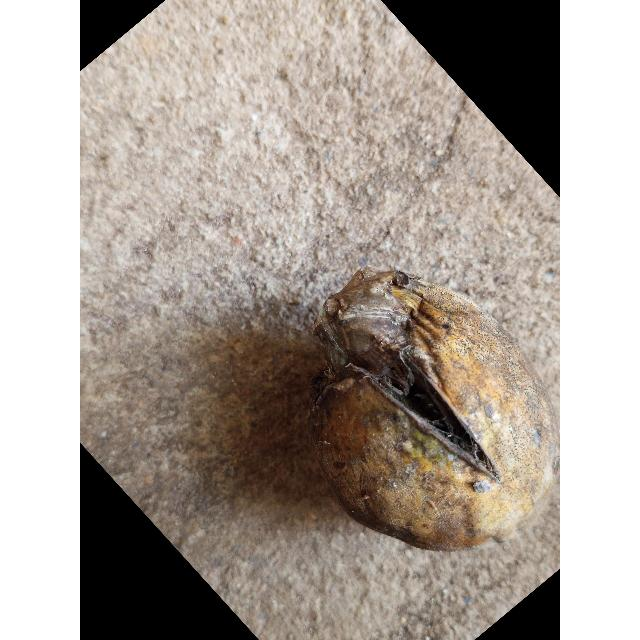damaged: (309, 267, 558, 550)
